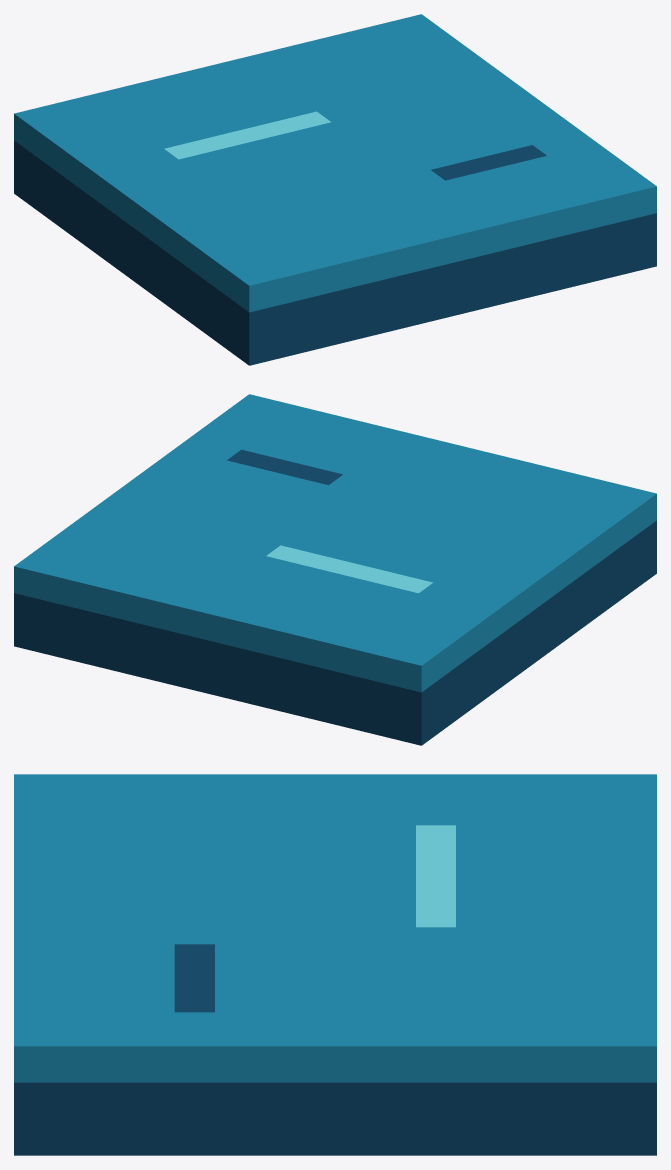
Rendered from floor_water_shallow.obj.
3 views of the same model, one above another, from view 1: azimuth 30°, elevation 25°; view 2: azimuth 150°, elevation 25°; view 3: azimuth 270°, elevation 25° (orthographic). The views are drawn at different scales.
Visible parts, largest first — view 1: floor_water_shallow; view 2: floor_water_shallow; view 3: floor_water_shallow.
Boxes of the visible parts, x1=… form: floor_water_shallow: x1=14, y1=14, x2=656, y2=365; floor_water_shallow: x1=14, y1=394, x2=656, y2=745; floor_water_shallow: x1=14, y1=774, x2=656, y2=1155.
Size of the model in its own units: 1 by 0.1875 by 1.
1 material, 1 textured.
